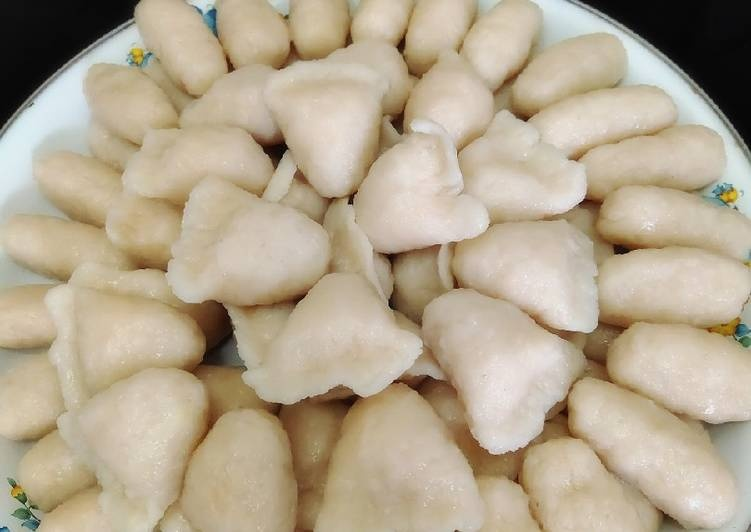pempek: (165, 185, 338, 301), (280, 277, 432, 409), (365, 143, 491, 263), (271, 66, 387, 186)
